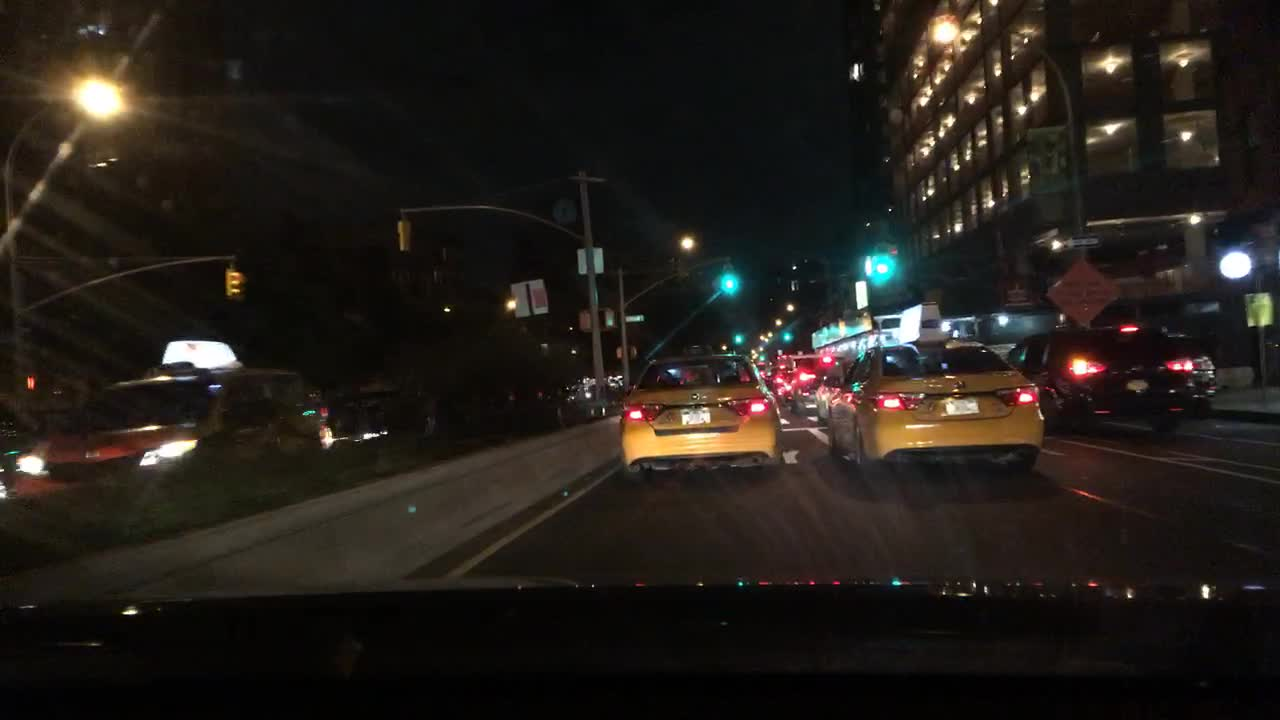car: (12, 336, 327, 502), (824, 299, 1047, 469), (1010, 321, 1221, 433), (625, 355, 784, 480), (793, 357, 846, 417), (579, 373, 629, 404), (774, 370, 800, 404)
traffic light: (873, 241, 894, 281), (226, 268, 246, 301), (396, 220, 412, 254), (721, 267, 738, 295), (576, 311, 595, 332), (602, 307, 615, 330), (25, 376, 36, 395), (614, 344, 626, 358), (627, 343, 637, 359), (780, 329, 792, 342), (734, 334, 745, 345)
traffic sign: (1052, 258, 1120, 329), (513, 278, 545, 320), (1246, 291, 1273, 327), (575, 247, 603, 274), (556, 198, 578, 229), (1059, 235, 1102, 249), (627, 313, 645, 323)
